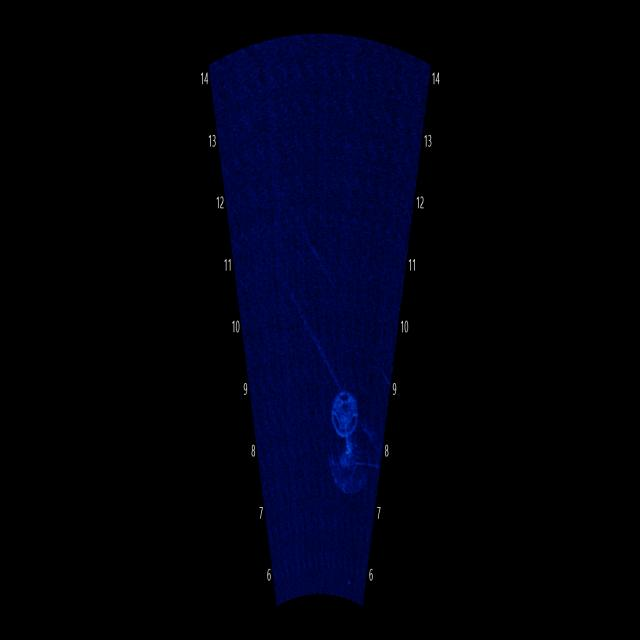circle: (329, 380, 363, 459)
